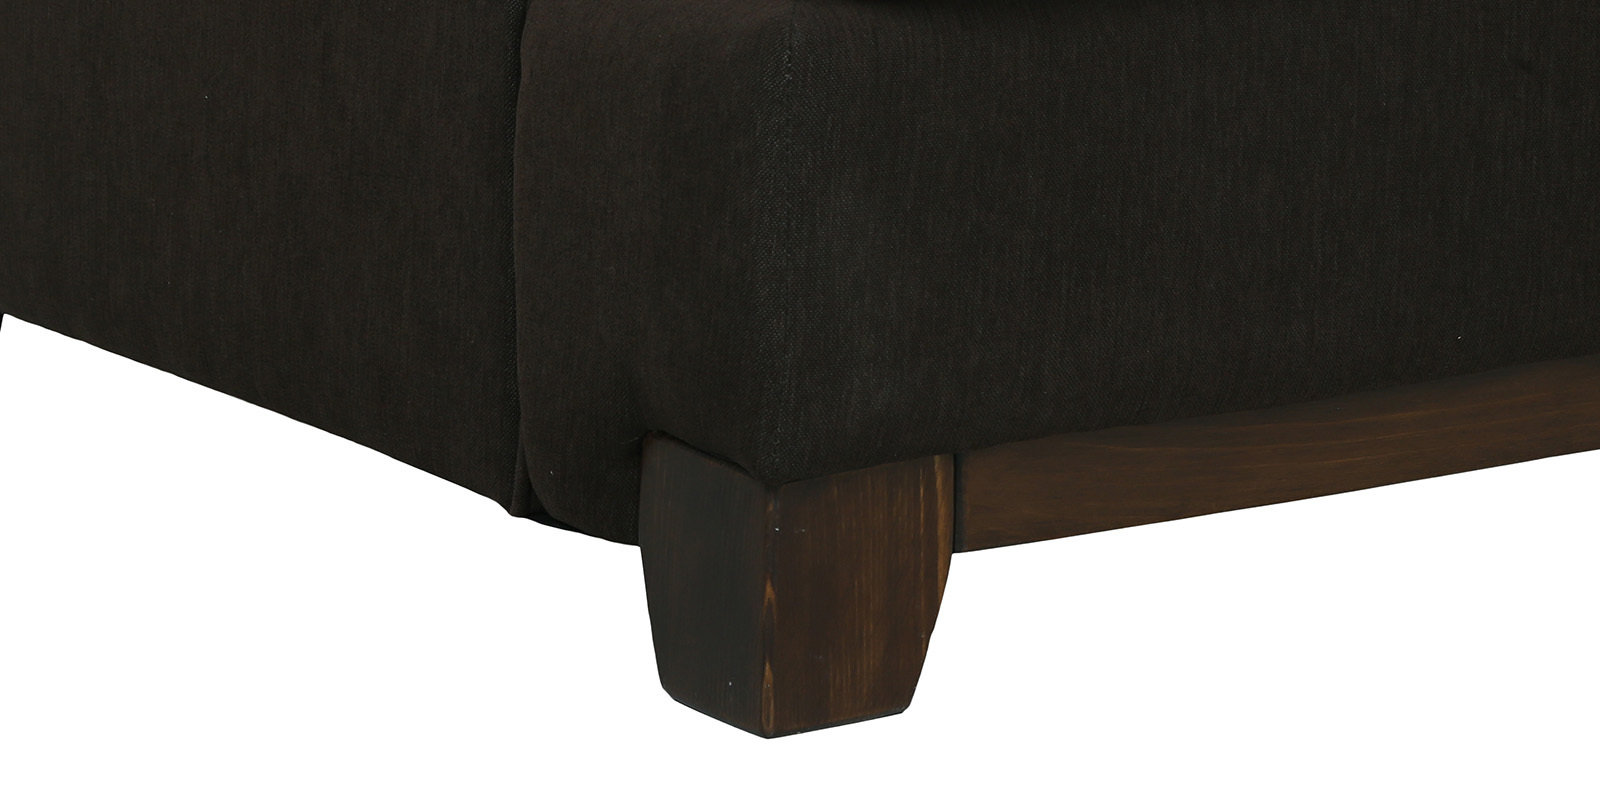Parana Three Seater Sofa in Chestnut Brown Color by CasaCraft: (2, 5, 1597, 739)
